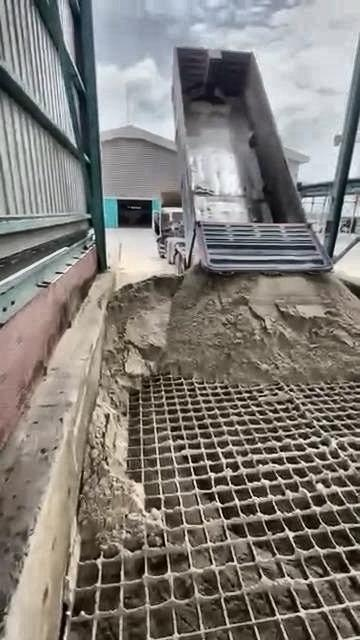sand: (80, 268, 360, 546)
